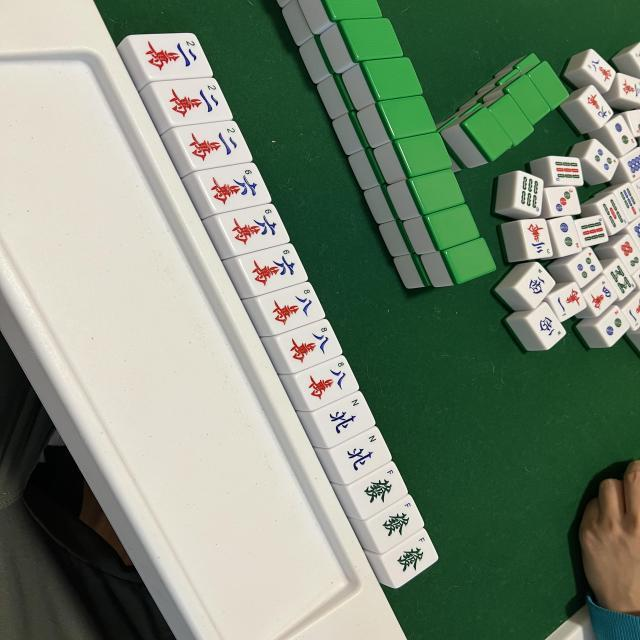hdg: (329, 460, 409, 521), (362, 528, 439, 589), (347, 494, 425, 554)
hwn: (312, 426, 393, 485), (295, 390, 377, 448)
hww: (514, 262, 557, 309), (527, 302, 566, 349)
sb5: (596, 195, 629, 235)
sb6: (513, 170, 543, 215)
sb7: (613, 183, 640, 221)
sb8: (604, 259, 635, 299)
sb9: (575, 215, 609, 247), (548, 156, 583, 185)
sc1: (548, 283, 586, 322)
sc2: (116, 33, 215, 92), (138, 77, 234, 136), (160, 121, 255, 179)
sc3: (521, 219, 553, 258)
sc4: (581, 276, 617, 317)
sc6: (180, 162, 273, 220), (201, 204, 291, 260), (221, 243, 309, 299)
sc8: (241, 281, 327, 337), (276, 355, 360, 411), (259, 319, 344, 374), (582, 49, 616, 90)
sc9: (579, 85, 614, 126)
sd2: (597, 307, 630, 345), (550, 217, 582, 256), (606, 116, 638, 154)
sd3: (545, 186, 581, 216)
sd4: (566, 248, 603, 287), (585, 139, 619, 180)
sd6: (614, 236, 640, 275)
